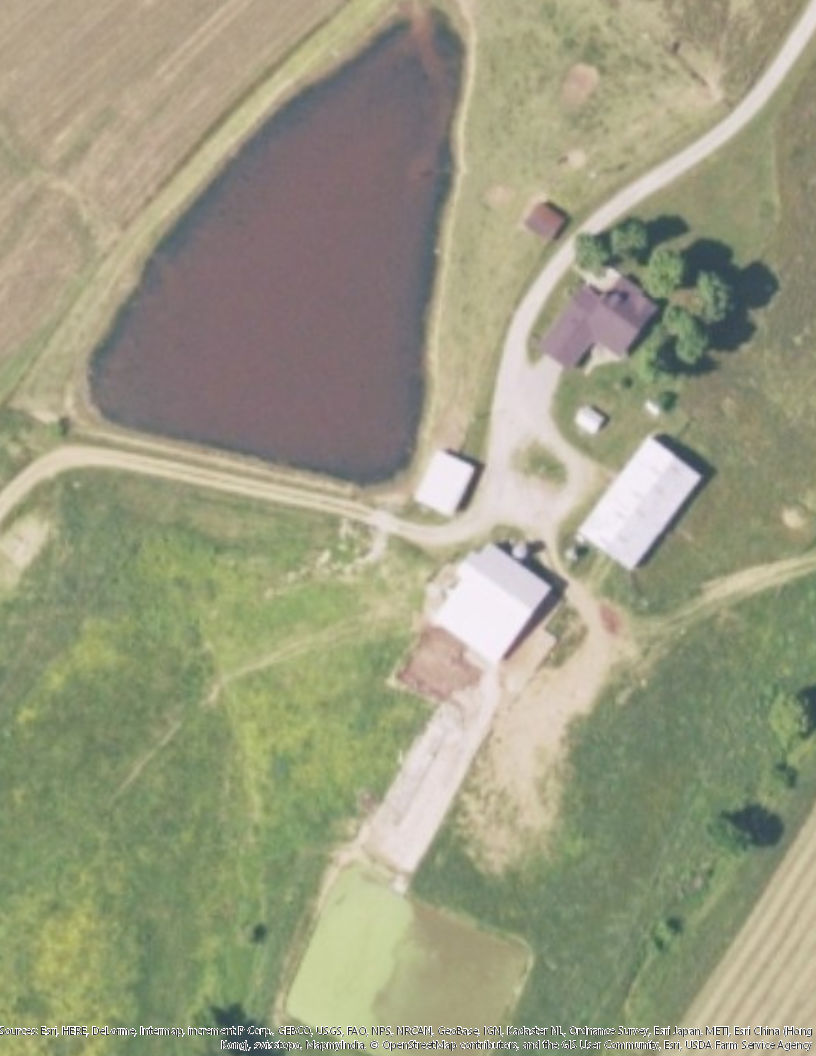cafo: (576, 431, 709, 574), (432, 538, 561, 676)
